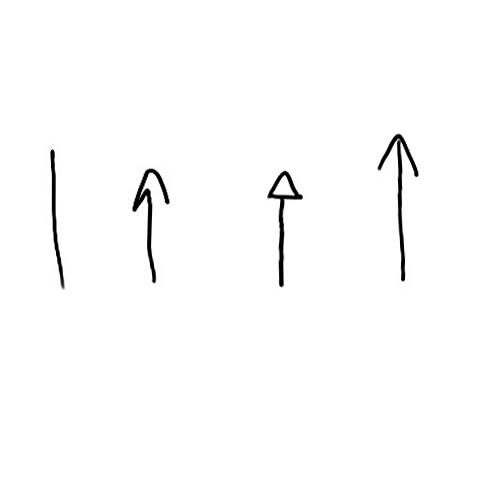arrow: (377, 134, 419, 282), (265, 169, 305, 287), (132, 165, 171, 280)
arrownohead: (43, 151, 69, 287)
